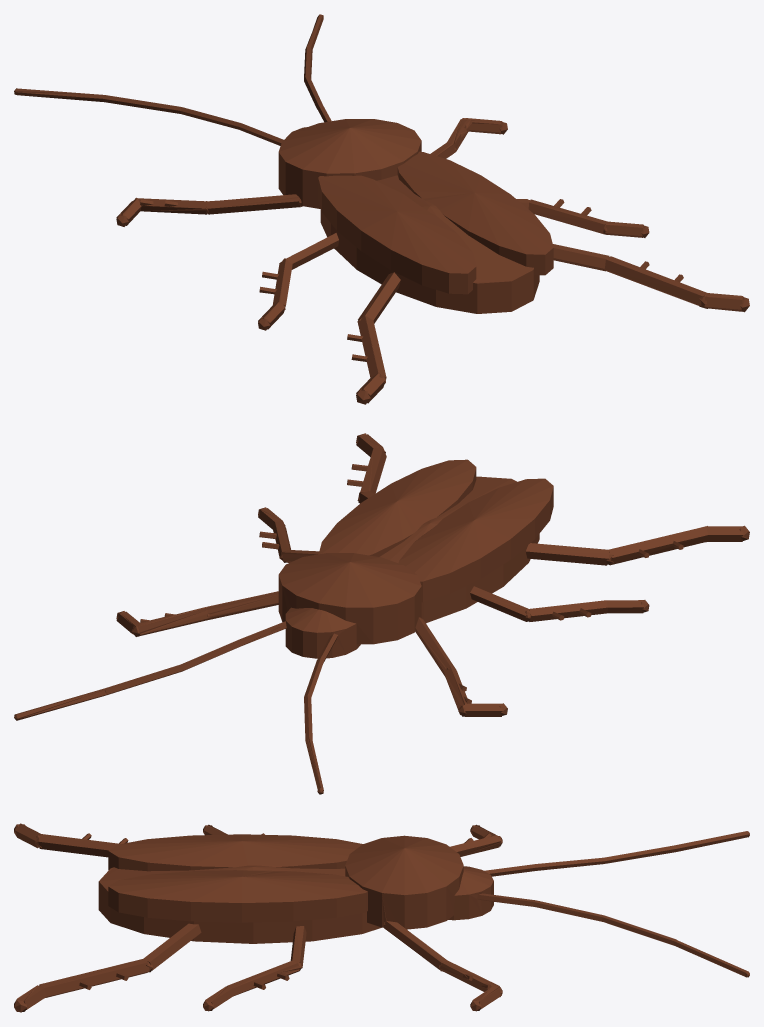
Rendered from NEW_RECOVERY_064_LOD2.fbx.
The picture shows the model from 3 angles, top to bottom: view 1: azimuth 30°, elevation 25°; view 2: azimuth 150°, elevation 25°; view 3: azimuth 270°, elevation 25°; orthographic projection. The views are drawn at different scales.
Visible parts, largest first — view 1: Cockroach; view 2: Cockroach; view 3: Cockroach.
Boxes of the visible parts, x1,y1,x2,y2 form: Cockroach: (14,14,749,404); Cockroach: (14,433,749,794); Cockroach: (14,823,749,1012).
Bounding box in the file's own units: 269 × 462 × 53.49.
